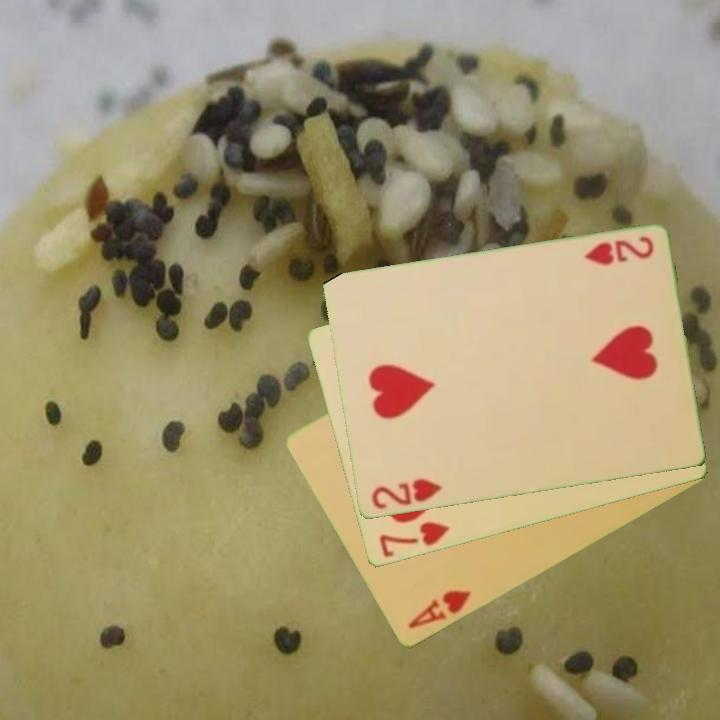2h: (368, 475, 445, 513), (580, 233, 656, 269)
7h: (375, 518, 453, 561)
Ah: (404, 587, 474, 633)
